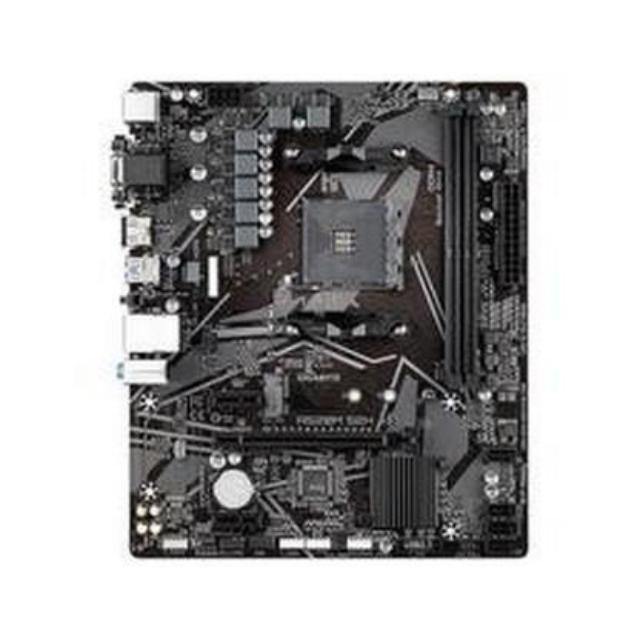Mainboard: (116, 81, 530, 567)
